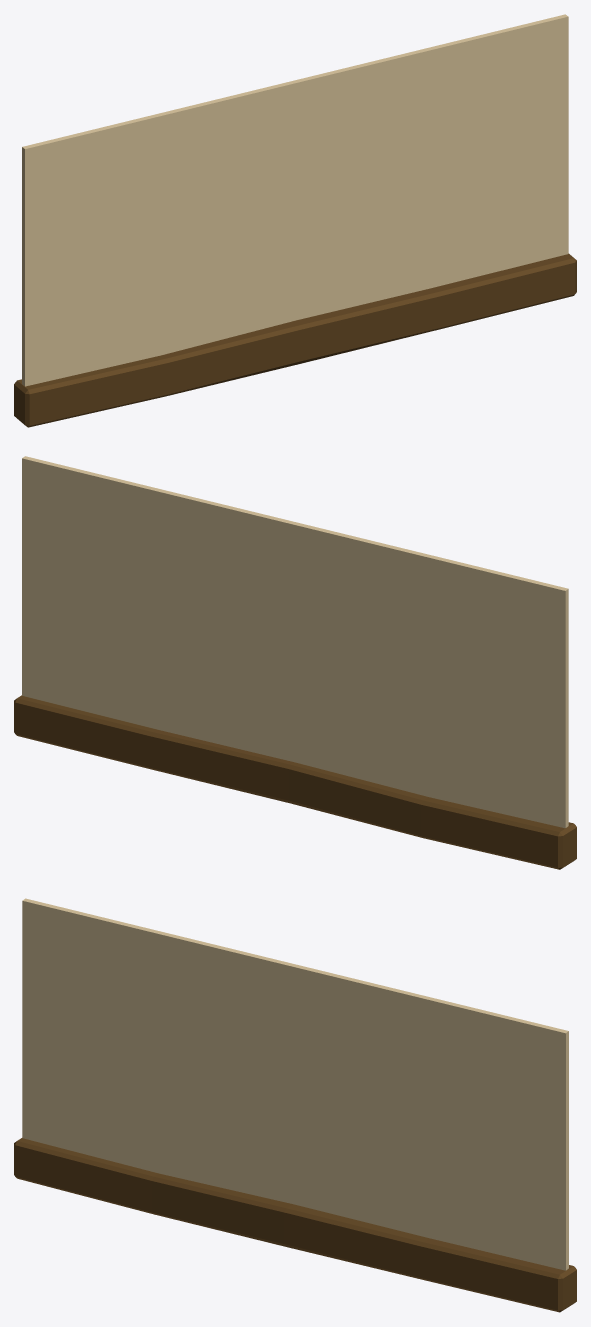
Rendered from Wall_03.fbx.
3 renders of one model, top to bottom at view 1: azimuth 30°, elevation 25°; view 2: azimuth 150°, elevation 25°; view 3: azimuth 330°, elevation 25°, orthographic.
Visible parts, largest first — view 1: Wall_03; view 2: Wall_03; view 3: Wall_03.
Boxes of the visible parts, x1,y1,x2,y2 form: Wall_03: (14,14,576,427); Wall_03: (14,456,576,869); Wall_03: (14,898,576,1312).
Size of the model in its own units: 5.84 by 2.8 by 0.3229.
